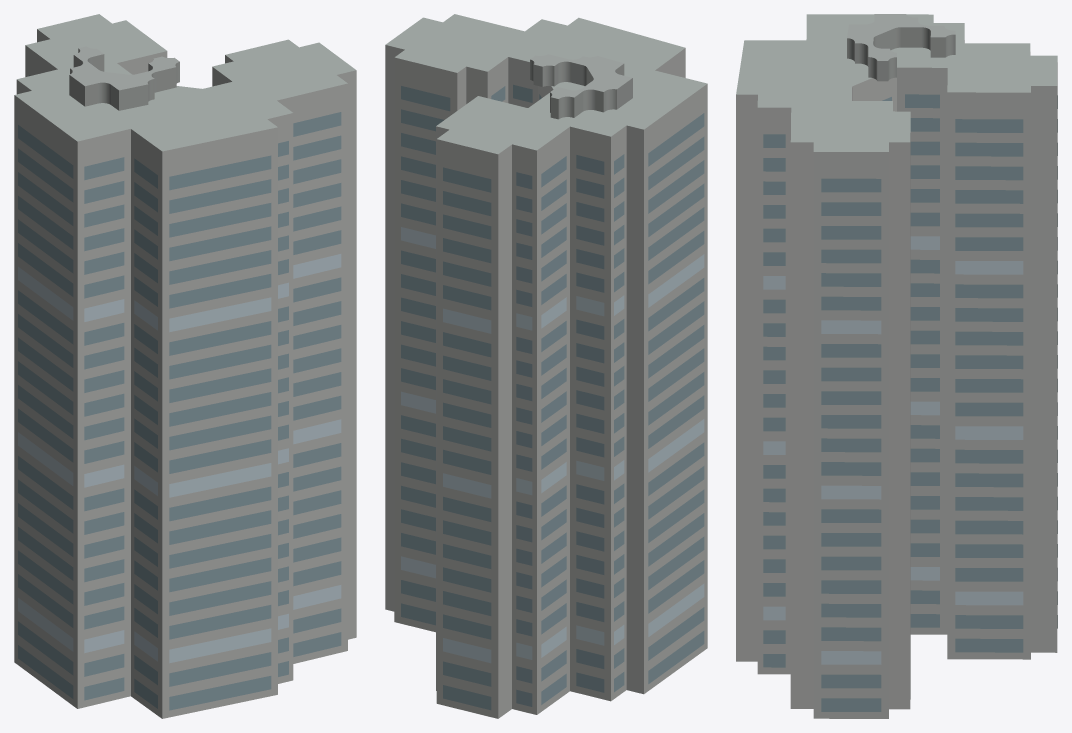
Rendered from fallback-mapo-raemian-prugio-completion-303.glb.
3 views of the same model, side by side, from view 1: azimuth 30°, elevation 25°; view 2: azimuth 150°, elevation 25°; view 3: azimuth 270°, elevation 25° (orthographic).
Visible parts, largest first — view 1: fallback-mapo-raemian-prugio-completion-303; view 2: fallback-mapo-raemian-prugio-completion-303; view 3: fallback-mapo-raemian-prugio-completion-303.
Part boxes in pixels (left/top/right/bottom): fallback-mapo-raemian-prugio-completion-303: left=14, top=14, right=356, bottom=718; fallback-mapo-raemian-prugio-completion-303: left=385, top=14, right=707, bottom=718; fallback-mapo-raemian-prugio-completion-303: left=736, top=14, right=1057, bottom=718.
Size of the model in its own units: 34.82 by 69 by 34.28.
